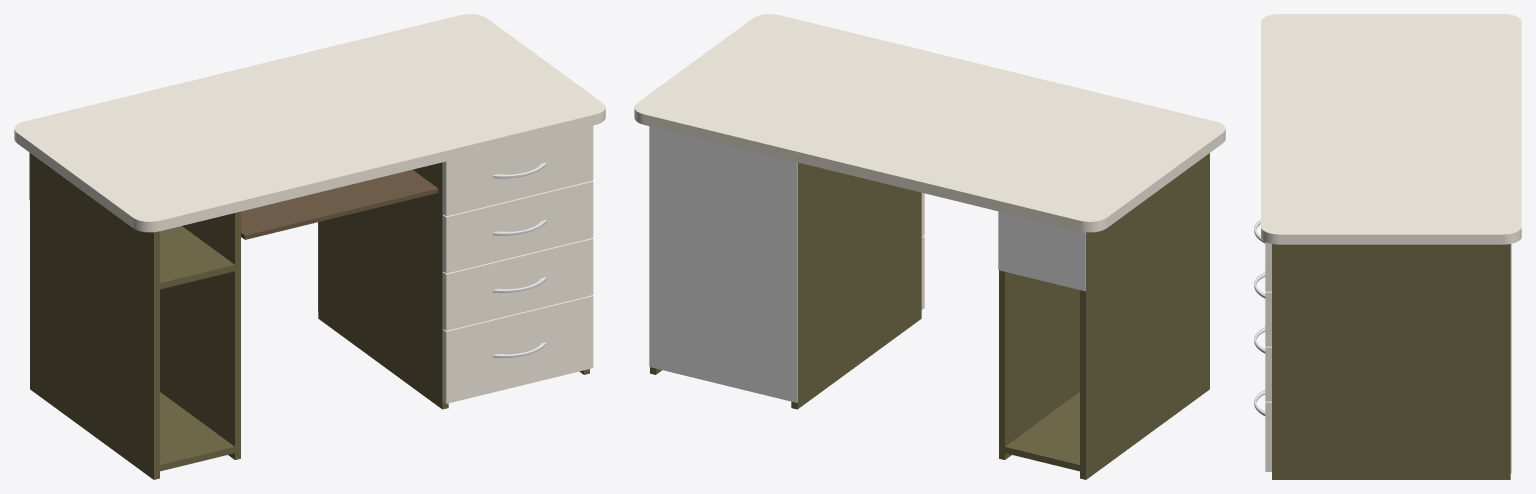
Rendered from computer_desk2.dae.
3 views of the same model, side by side, from view 1: azimuth 30°, elevation 25°; view 2: azimuth 150°, elevation 25°; view 3: azimuth 270°, elevation 25° (orthographic). The views are drawn at different scales.
Parts seen in each view (by area): view 1: mesh_5_Imported37_face, mesh_1_compute, mesh_4_Imported39_face, mesh_3_Imported24_face; view 2: mesh_5_Imported37_face, mesh_1_compute, mesh_2_Imported9_face; view 3: mesh_5_Imported37_face, mesh_1_compute, mesh_3_Imported24_face, mesh_2_Imported9_face.
Boxes of the visible parts, box(x1,y1,x2,y2) form: mesh_5_Imported37_face: box(14, 14, 605, 403); mesh_1_compute: box(30, 153, 589, 479); mesh_4_Imported39_face: box(241, 169, 438, 239); mesh_3_Imported24_face: box(493, 162, 546, 357); mesh_5_Imported37_face: box(634, 14, 1225, 309); mesh_1_compute: box(650, 153, 1209, 479); mesh_2_Imported9_face: box(649, 126, 1085, 402); mesh_5_Imported37_face: box(1261, 14, 1521, 471); mesh_1_compute: box(1272, 244, 1510, 479); mesh_3_Imported24_face: box(1254, 219, 1265, 415); mesh_2_Imported9_face: box(1510, 244, 1511, 473).
Bounding box in the file's own units: 1.4 × 0.718 × 0.75.
